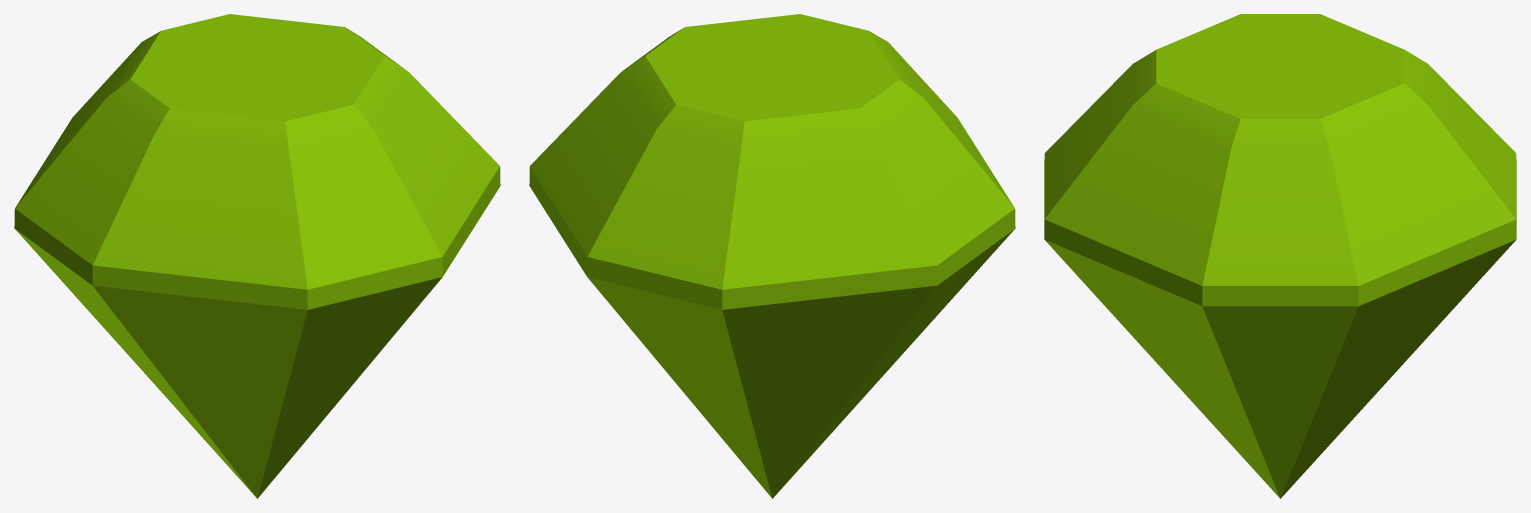
Rendered from gem_green.glb.
3 renders of one model, left to right at view 1: azimuth 30°, elevation 25°; view 2: azimuth 150°, elevation 25°; view 3: azimuth 270°, elevation 25°, orthographic.
Parts seen in each view (by area): view 1: Gem_Green; view 2: Gem_Green; view 3: Gem_Green.
Part boxes in pixels (left/top/right/bottom): Gem_Green: left=14, top=14, right=500, bottom=498; Gem_Green: left=529, top=14, right=1015, bottom=498; Gem_Green: left=1044, top=14, right=1516, bottom=498.
Bounding box in the file's own units: 1.5 × 1.51 × 1.5.
